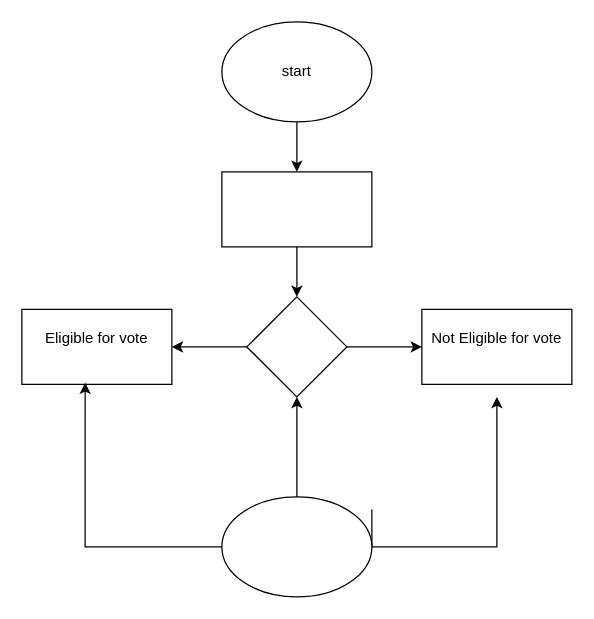
Image size: 594x619. Some labels were removed from this diagram. Each missing label, with the centre of its shape:
age=10: the point at 296,209
if age >=18: the point at 296,346
